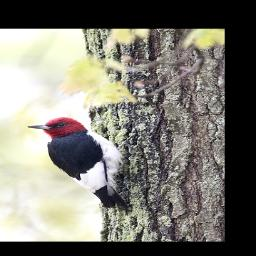Woodpecker: (27, 117, 126, 210)
